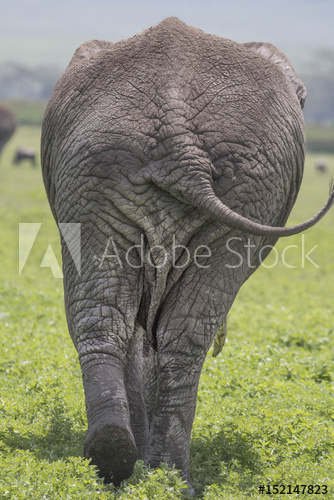elephant: (33, 31, 314, 490)
